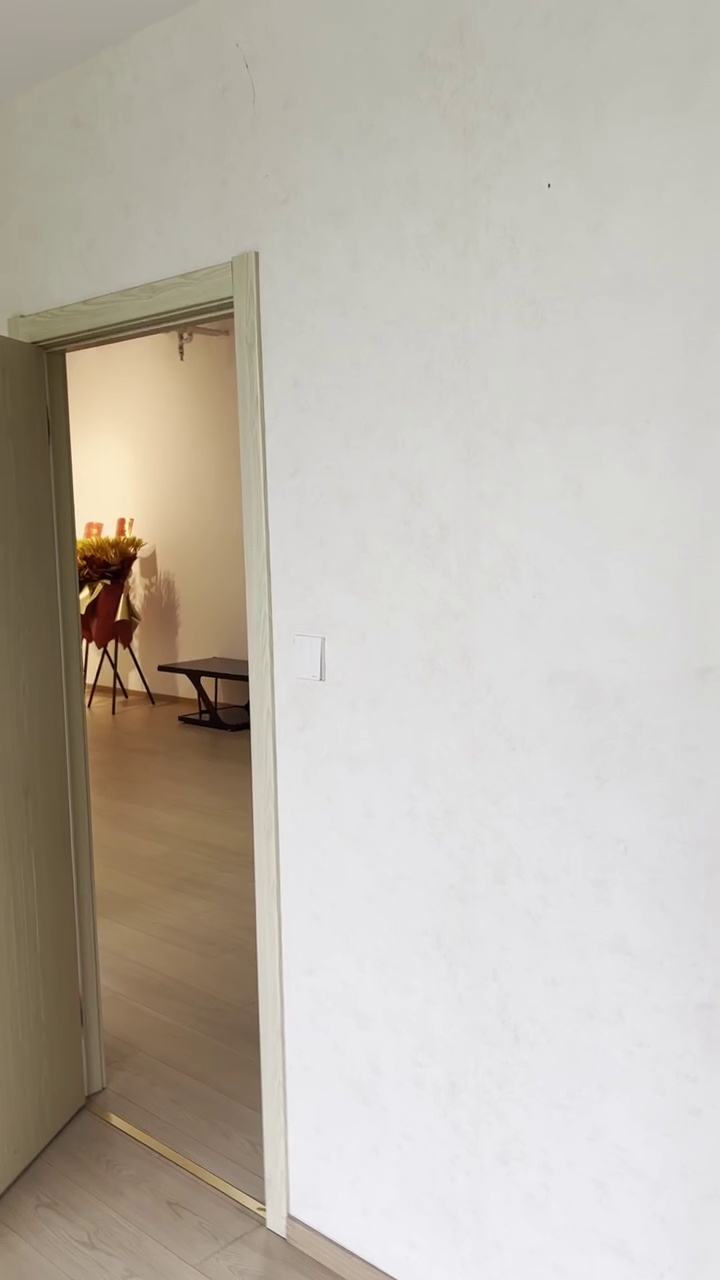button: (287, 633, 331, 684)
